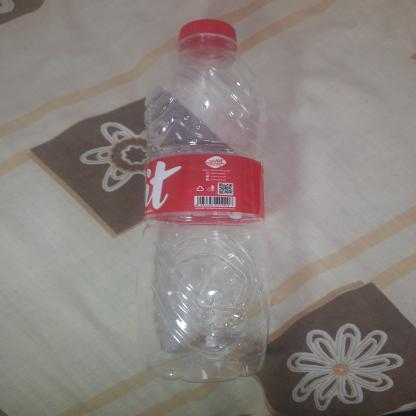bottle: (138, 15, 270, 389)
